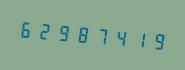eight: (74, 18, 92, 49)
four: (112, 21, 130, 53)
nine: (55, 16, 73, 48), (150, 25, 168, 56)
one: (131, 23, 149, 54)
seven: (93, 20, 111, 51)
six: (17, 13, 35, 44)
two: (36, 15, 54, 46)
